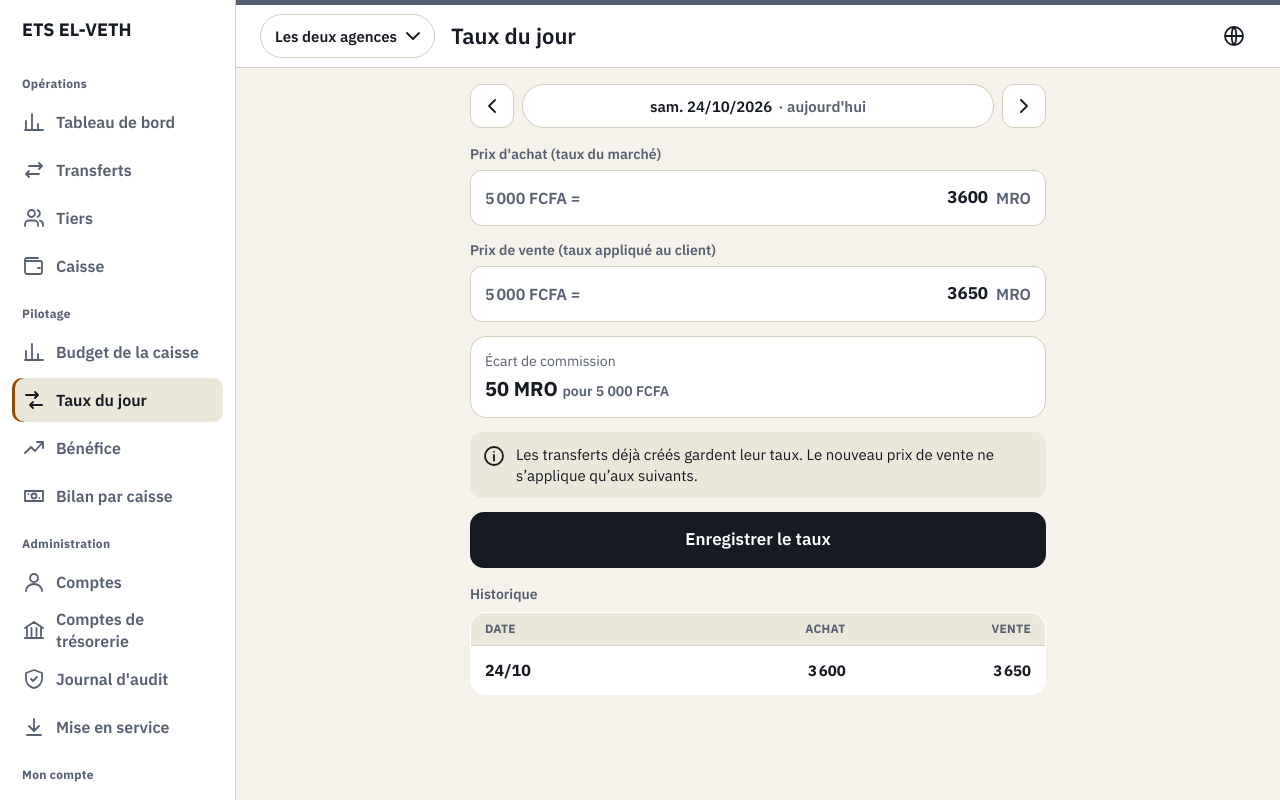
Test: Taux du jour — Superviseur › refuse plus de deux décimales avant tout envoi
Replace the text in the field labelled "Prix d'achat (taux du marché)" with "3600,555": (788, 198) [588,172,988,224]
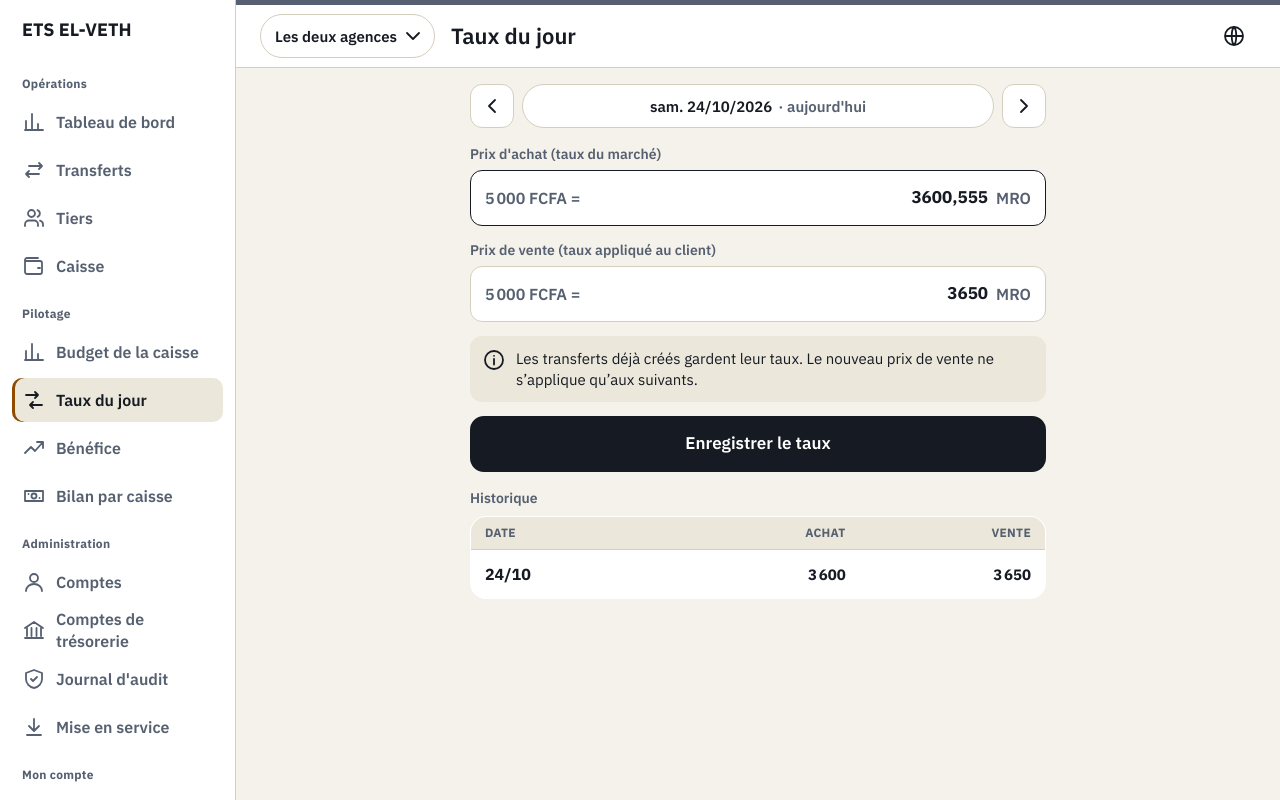
Click the button "Enregistrer le taux": click(758, 444) [470,416,1046,472]
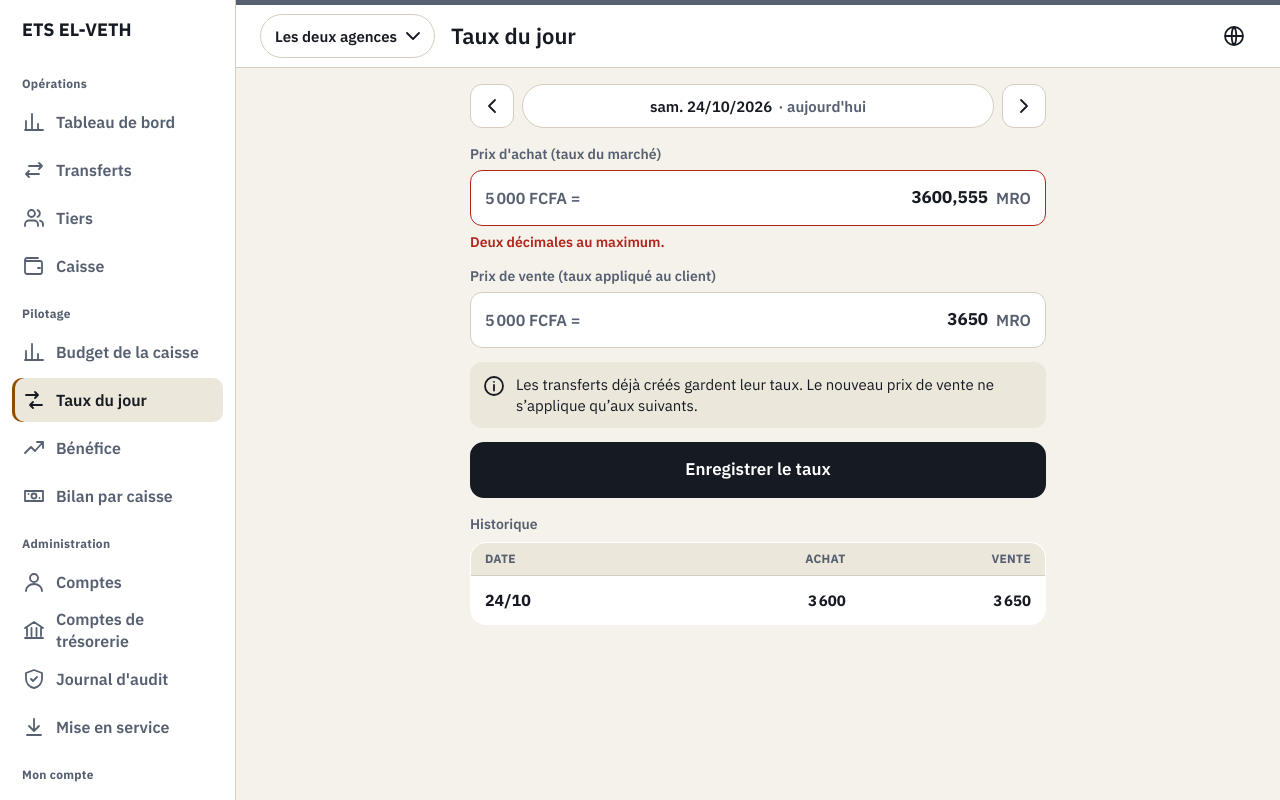
Check: the text "Deux décimales au maximum." is shown, box [470,233,665,251]
